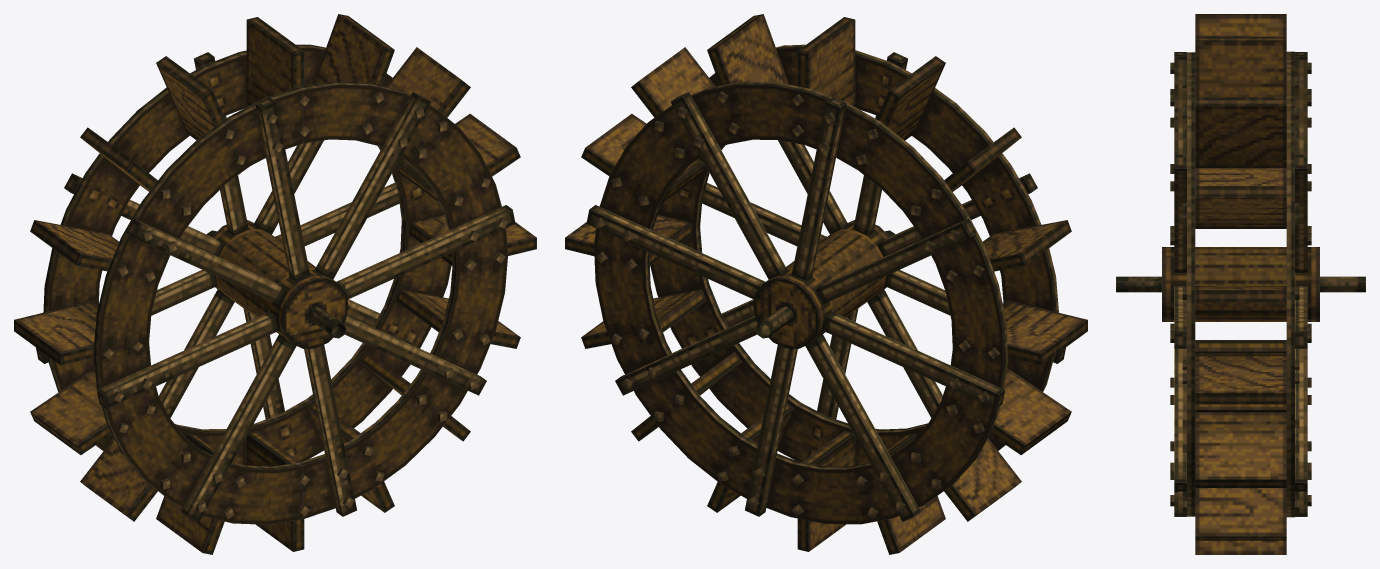
File: EnvBdgMD_Forest_A_Outdoor_WaterWheel_A.FBX
3 views of the same model, side by side, from view 1: azimuth 30°, elevation 25°; view 2: azimuth 150°, elevation 25°; view 3: azimuth 270°, elevation 25° (orthographic).
Visible parts, largest first — view 1: EnvBdgMD_Forest_A_Outdoor_WaterWheel_A; view 2: EnvBdgMD_Forest_A_Outdoor_WaterWheel_A; view 3: EnvBdgMD_Forest_A_Outdoor_WaterWheel_A.
Part boxes in pixels (box(x1,y1,x2,y2)): EnvBdgMD_Forest_A_Outdoor_WaterWheel_A: box(14, 14, 536, 554); EnvBdgMD_Forest_A_Outdoor_WaterWheel_A: box(565, 14, 1087, 554); EnvBdgMD_Forest_A_Outdoor_WaterWheel_A: box(1116, 14, 1365, 554).
Bounding box in the file's own units: 650 × 650 × 300.
